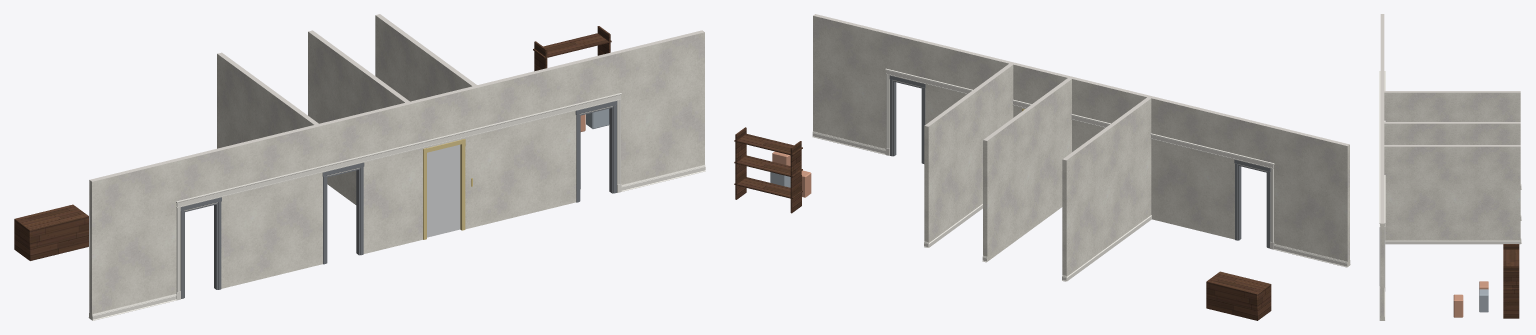
File: plan_ground.glb
3 renders of one model, left to right at view 1: azimuth 30°, elevation 25°; view 2: azimuth 150°, elevation 25°; view 3: azimuth 270°, elevation 25°, orthographic. The views are drawn at different scales.
Parts seen in each view (by area): view 1: plan_ground_plaster, molduras, plan_ground_dkwood, plan_ground_frame, plan_ground_steel, plan_ground_gold; view 2: plan_ground_plaster, plan_ground_dkwood, molduras, plan_ground_frame, plan_ground_trim, plan_ground_fabric2; view 3: plan_ground_plaster, plan_ground_dkwood, molduras, plan_ground_trim, plan_ground_fabric2, plan_ground_fabric.
Part boxes in pixels (box(x1,y1,x2,y2)): plan_ground_plaster: box(89, 14, 704, 319); molduras: box(88, 93, 705, 320); plan_ground_dkwood: box(14, 26, 611, 260); plan_ground_frame: box(180, 101, 617, 298); plan_ground_steel: box(427, 144, 460, 237); plan_ground_gold: box(423, 139, 472, 239); plan_ground_plaster: box(813, 14, 1349, 280); plan_ground_dkwood: box(734, 127, 1271, 320); molduras: box(812, 68, 1350, 281); plan_ground_frame: box(889, 75, 1270, 248); plan_ground_trim: box(929, 204, 1151, 281); plan_ground_fabric2: box(772, 151, 811, 197); plan_ground_plaster: box(1380, 14, 1520, 320); plan_ground_dkwood: box(1503, 244, 1519, 318); molduras: box(1379, 71, 1521, 320); plan_ground_trim: box(1385, 240, 1520, 244); plan_ground_fabric2: box(1453, 281, 1488, 317); plan_ground_fabric: box(1479, 289, 1488, 312).
Bounding box in the file's own units: 15.5 × 3.35 × 4.45.
Materials: 9 (2 with a texture image).
